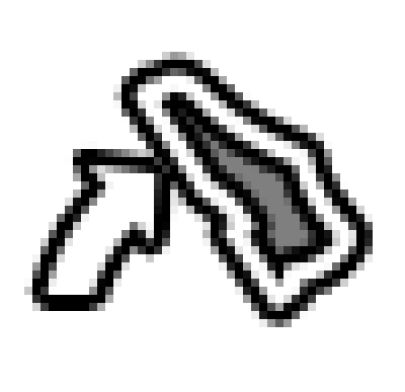ACCELERATOR: (20, 37, 381, 354)
